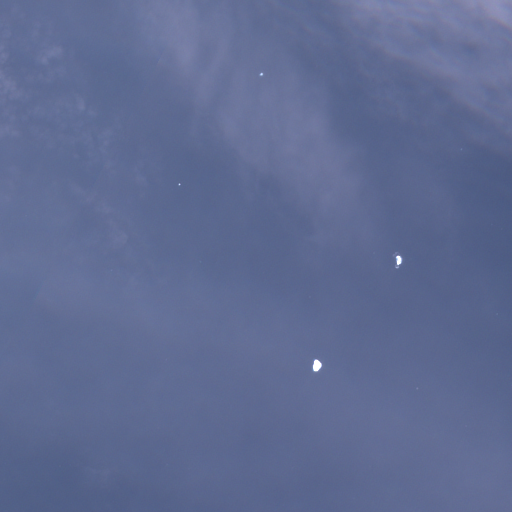Iceberg: (313, 359, 321, 371), (395, 255, 402, 268), (259, 72, 262, 75), (178, 183, 180, 185)
